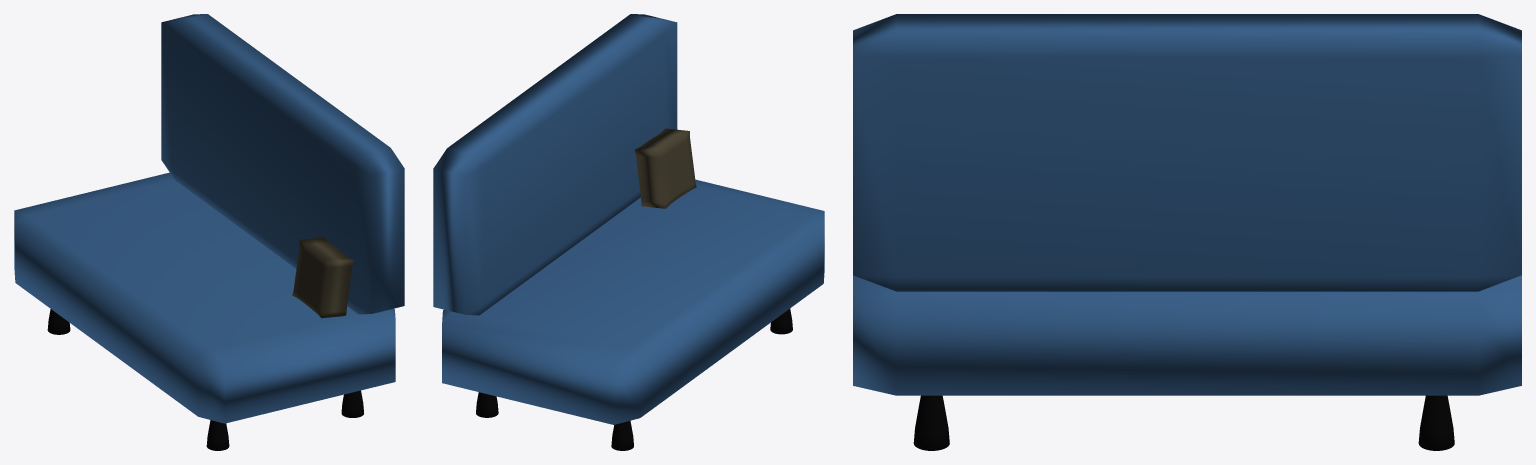
File: Sofa1.fbx
The picture shows the model from 3 angles, left to right: view 1: azimuth 30°, elevation 25°; view 2: azimuth 150°, elevation 25°; view 3: azimuth 270°, elevation 25°; orthographic projection. The views are drawn at different scales.
Visible parts, largest first — view 1: SofaPart1, SofaPart2, Cube, Leg1, Leg4, Leg2; view 2: SofaPart1, SofaPart2, Cube, Leg2, Leg3, Leg1; view 3: SofaPart2, SofaPart1, Leg4, Leg3.
Boxes of the visible parts, bbox=[...] form: SofaPart1: bbox=[14, 172, 395, 423]; SofaPart2: bbox=[161, 14, 404, 314]; Cube: bbox=[292, 237, 353, 318]; Leg1: bbox=[206, 420, 229, 450]; Leg4: bbox=[341, 390, 363, 417]; Leg2: bbox=[47, 309, 70, 334]; SofaPart1: bbox=[442, 179, 824, 424]; SofaPart2: bbox=[433, 14, 677, 315]; Cube: bbox=[634, 128, 696, 208]; Leg2: bbox=[611, 420, 633, 450]; Leg3: bbox=[476, 392, 498, 417]; Leg1: bbox=[770, 308, 792, 334]; SofaPart2: bbox=[853, 14, 1521, 291]; SofaPart1: bbox=[853, 275, 1521, 395]; Leg4: bbox=[913, 395, 949, 450]; Leg3: bbox=[1418, 395, 1454, 450].
Bounding box in the file's own units: 200 × 259 × 370.
